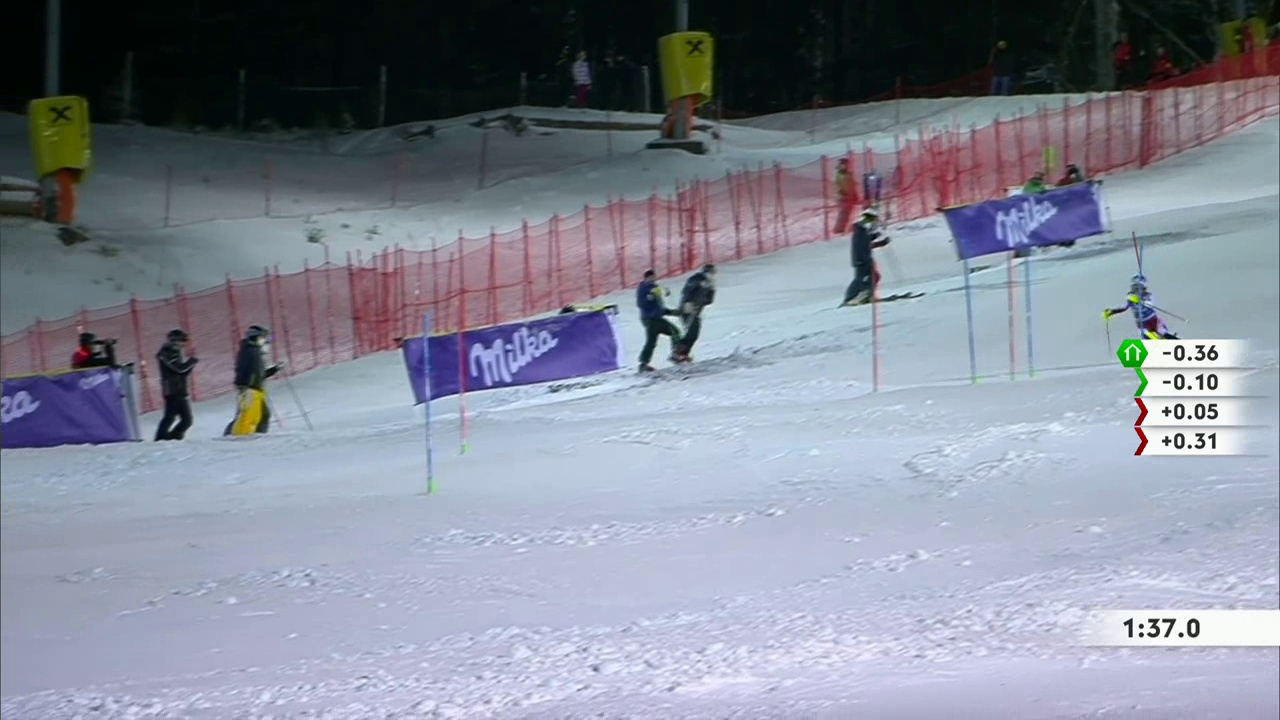milka: (421, 316, 609, 397), (1, 370, 133, 452)
raiffeisen: (41, 97, 82, 132), (676, 32, 709, 66)
